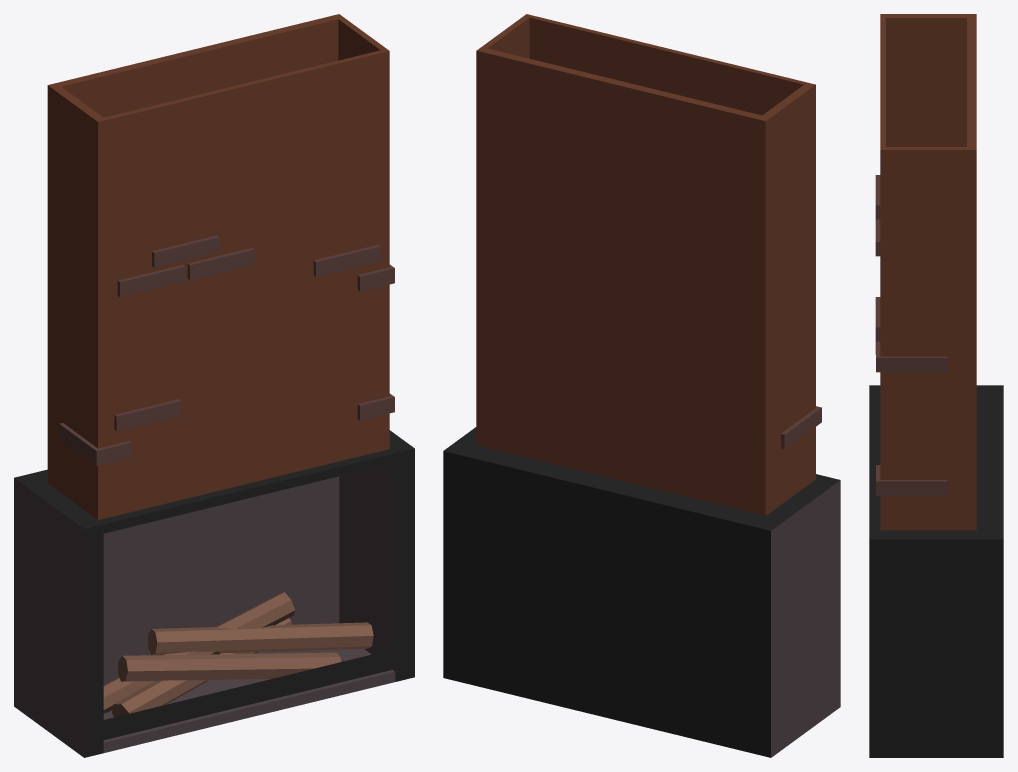
Rendered from Somine.fbx.
3 renders of one model, left to right at view 1: azimuth 30°, elevation 25°; view 2: azimuth 150°, elevation 25°; view 3: azimuth 270°, elevation 25°, orthographic. The views are drawn at different scales.
Visible parts, largest first — view 1: Cube.022, Plane.007, Cylinder.001, Cylinder.003, Cylinder, Cylinder.002, Cube.009, Cube.010, Cube.013, Cube.012, Cube.008, Cube.011 (+2 smaller); view 2: Cube.022, Plane.007, Cube.009; view 3: Cube.022, Plane.007, Cube.007, Cube.006, Cube.008, Cube.011.
Part boxes in pixels (box(x1,y1,x2,y2)): Cube.022: box(47, 14, 389, 519); Plane.007: box(14, 430, 414, 757); Cylinder.001: box(148, 622, 373, 655); Cylinder.003: box(118, 652, 340, 681); Cylinder: box(103, 592, 295, 713); Cylinder.002: box(112, 618, 291, 717); Cube.009: box(59, 423, 131, 465); Cube.010: box(114, 399, 181, 431); Cube.013: box(187, 248, 254, 279); Cube.012: box(117, 265, 184, 297); Cube.008: box(313, 244, 380, 276); Cube.011: box(152, 235, 218, 267); Cube.022: box(476, 14, 815, 515); Plane.007: box(443, 427, 840, 757); Cube.009: box(781, 406, 821, 449); Cube.022: box(880, 14, 976, 530); Plane.007: box(869, 385, 1003, 757); Cube.007: box(876, 341, 947, 372); Cube.006: box(876, 465, 947, 495); Cube.008: box(875, 297, 880, 341); Cube.011: box(875, 175, 880, 219).
Bounding box in the file's own units: 680 × 1233 × 250.
